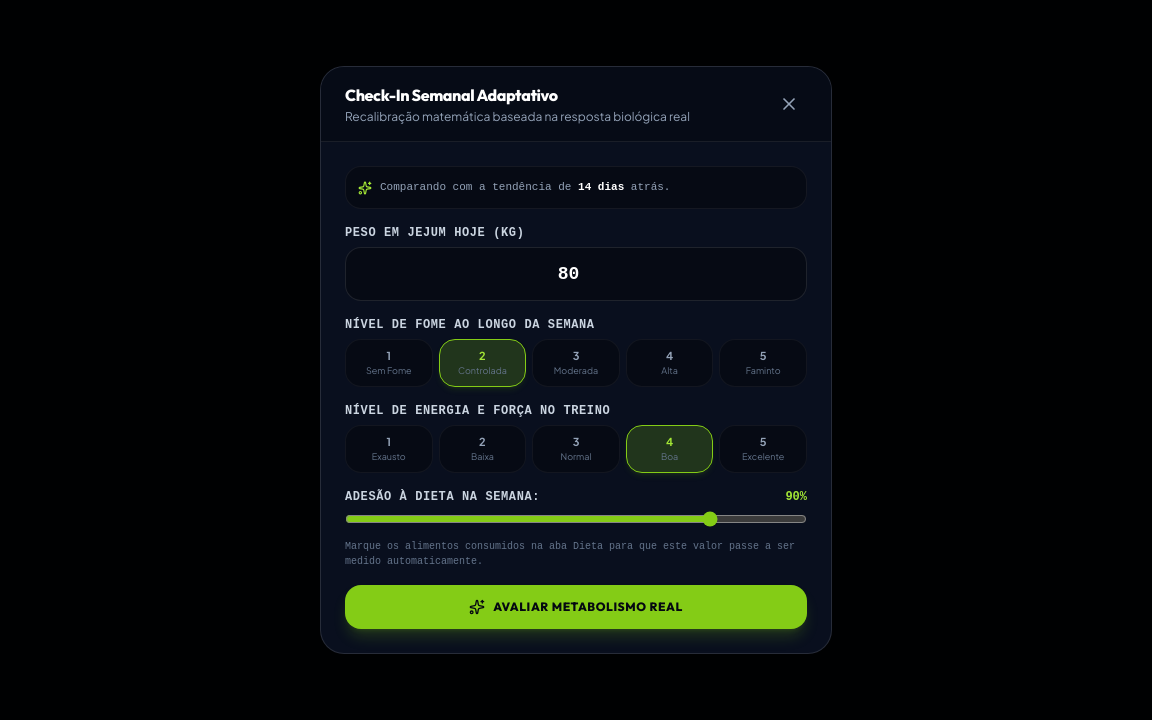
Test case: CheckInModal — aplicação do ajuste › deve mostrar a nova meta usando o mesmo cálculo do app
Expected: the text "14 dias" is shown, left=578, top=181, right=624, bottom=193
What coordinates should you click on to do the following:
click the button "Avaliar Metabolismo Real"
I would click on:
 (576, 607)
Its box is left=345, top=585, right=807, bottom=629.
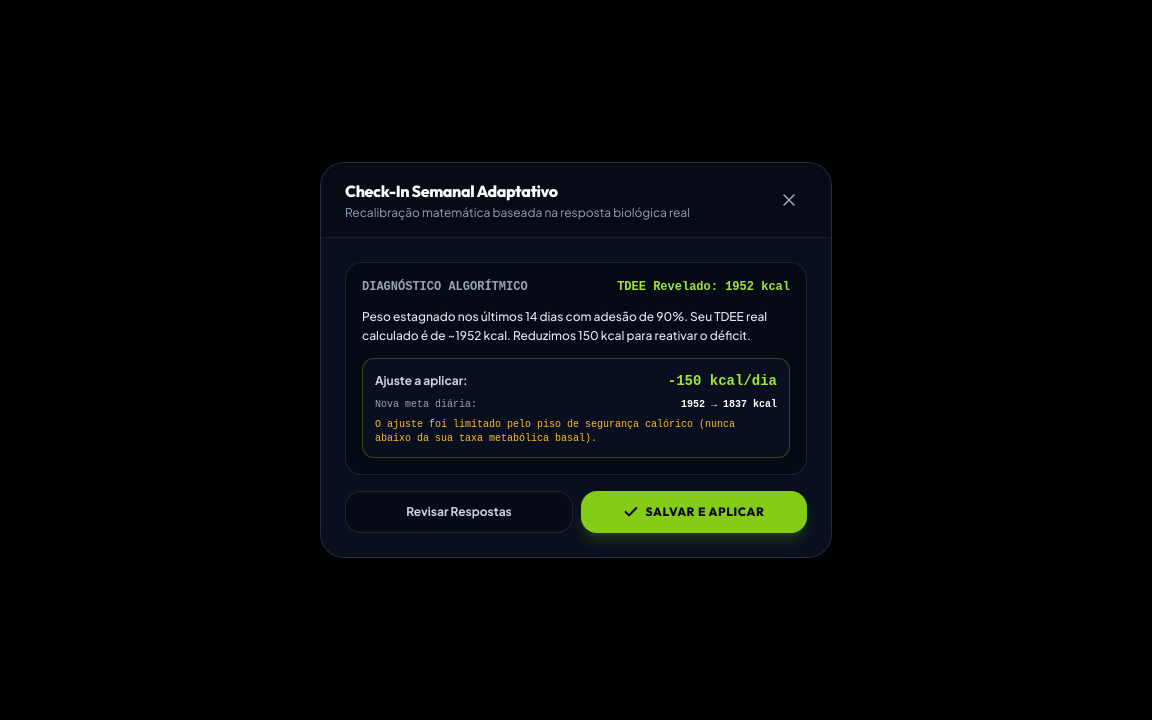
Expected: the text "Nova meta diária:" is shown, left=375, top=397, right=477, bottom=412
